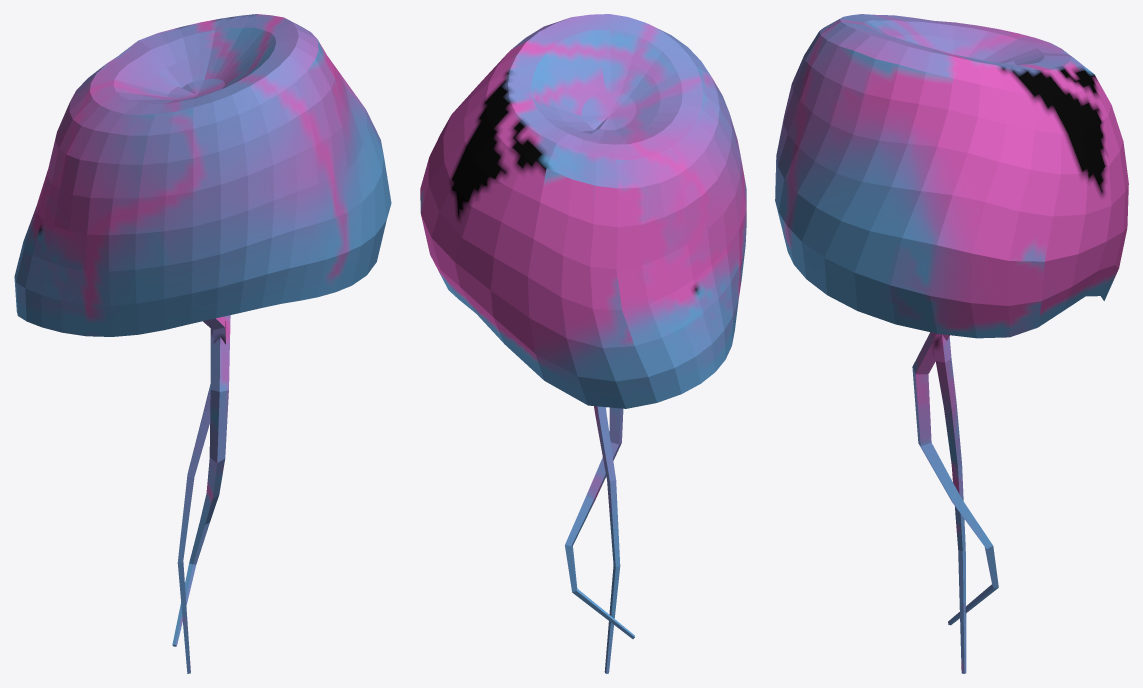
File: coin.fbx
3 renders of one model, left to right at view 1: azimuth 30°, elevation 25°; view 2: azimuth 150°, elevation 25°; view 3: azimuth 270°, elevation 25°, orthographic. The views are drawn at different scales.
Visible parts, largest first — view 1: Сфера; view 2: Сфера; view 3: Сфера.
Boxes of the visible parts, x1,y1,x2,y2 form: Сфера: [14, 14, 391, 673]; Сфера: [420, 14, 746, 673]; Сфера: [775, 14, 1128, 673].
Size of the model in its own units: 217 by 418 by 200.
